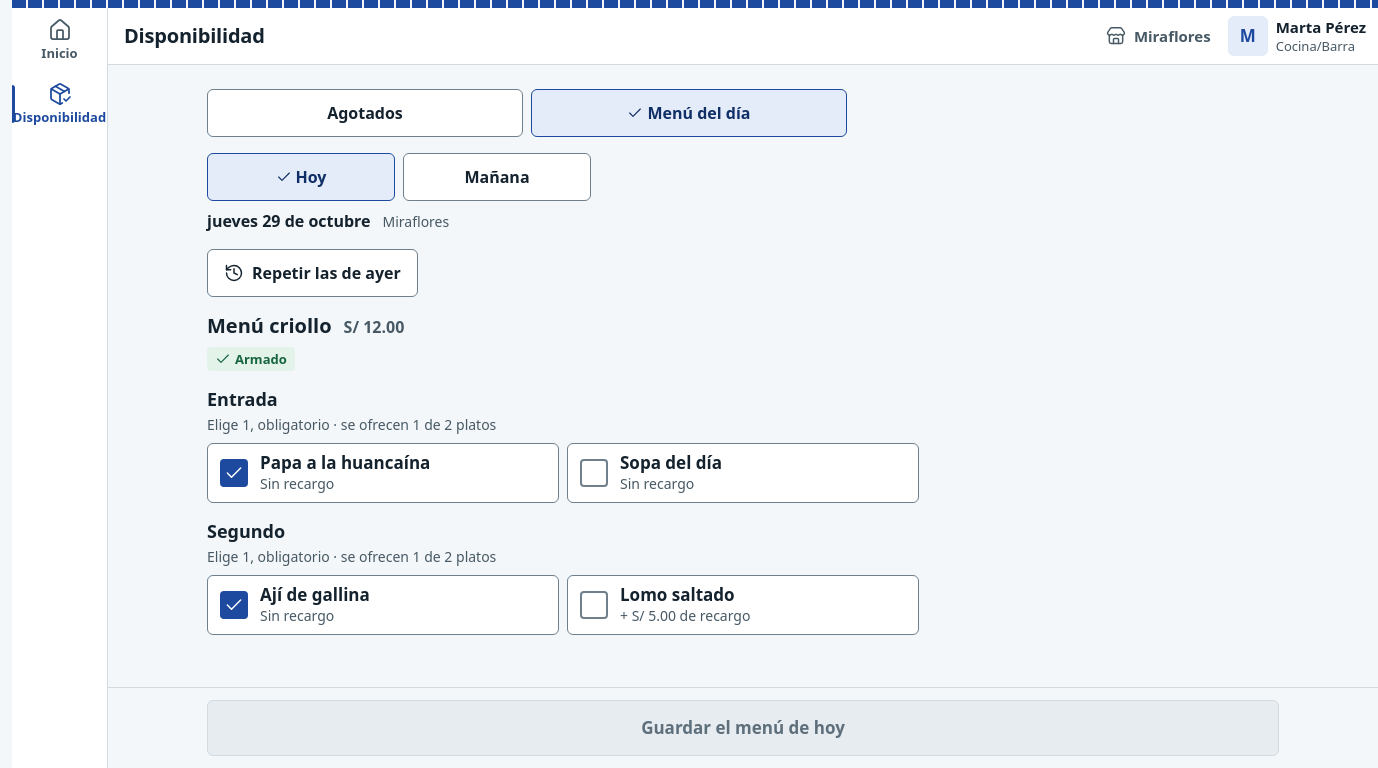
Test: menú del día: armar › desmarcar todo y guardar manda una lista vacía (el menú queda sin armar)
(page scrolled)
Click the checkbox labelled "Papa a la huancaína Sin recargo": (383, 473) [207, 443, 559, 503]
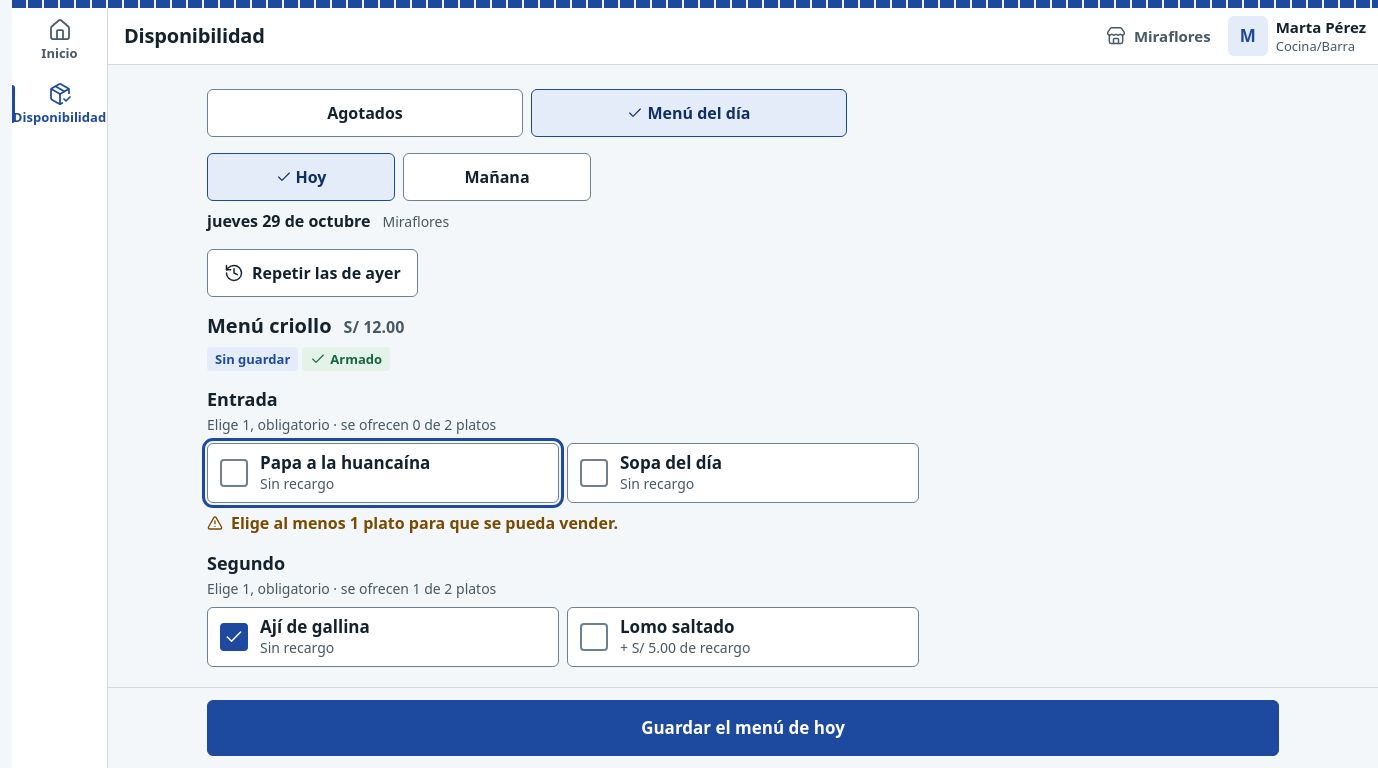
Click the checkbox labelled "Ají de gallina Sin recargo": (315, 626) [207, 607, 559, 667]
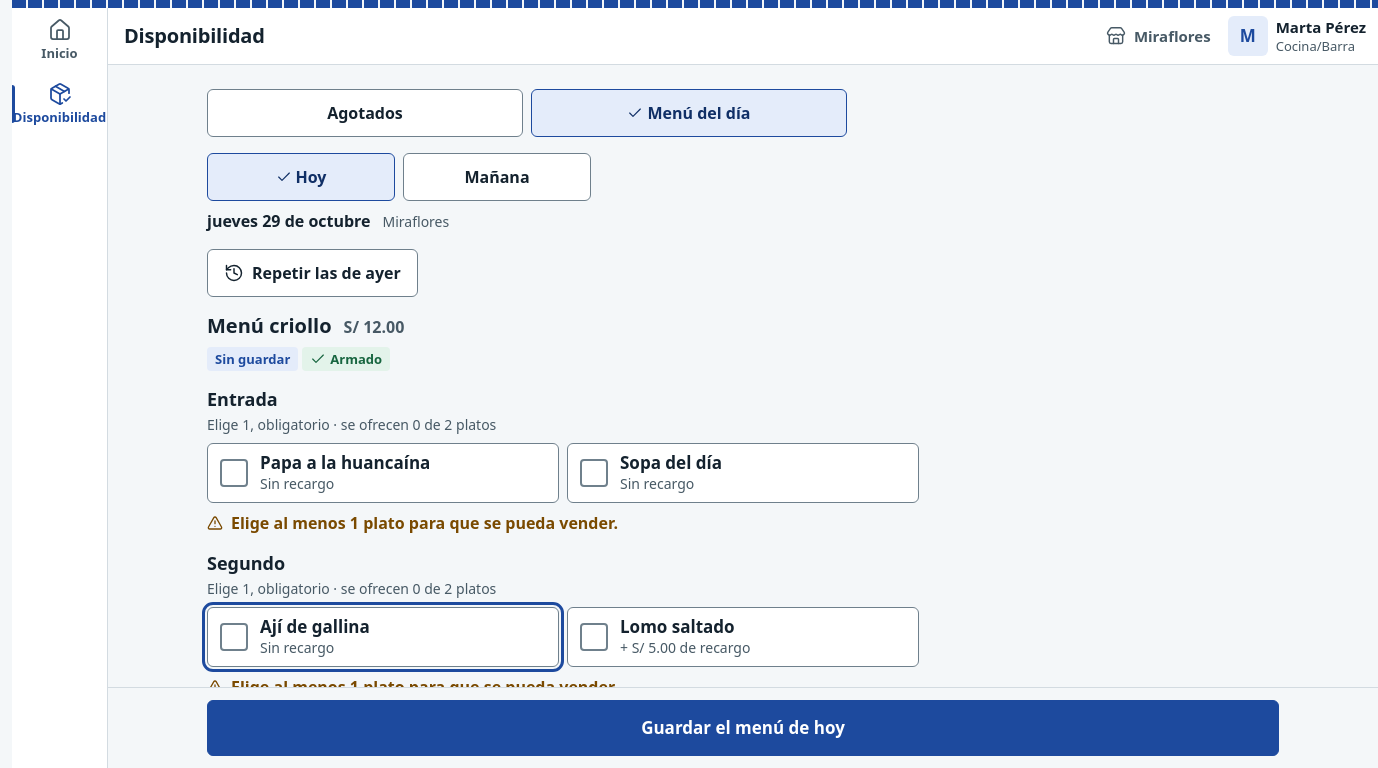
Click the button "Guardar el menú de hoy": (743, 728) [207, 700, 1279, 756]
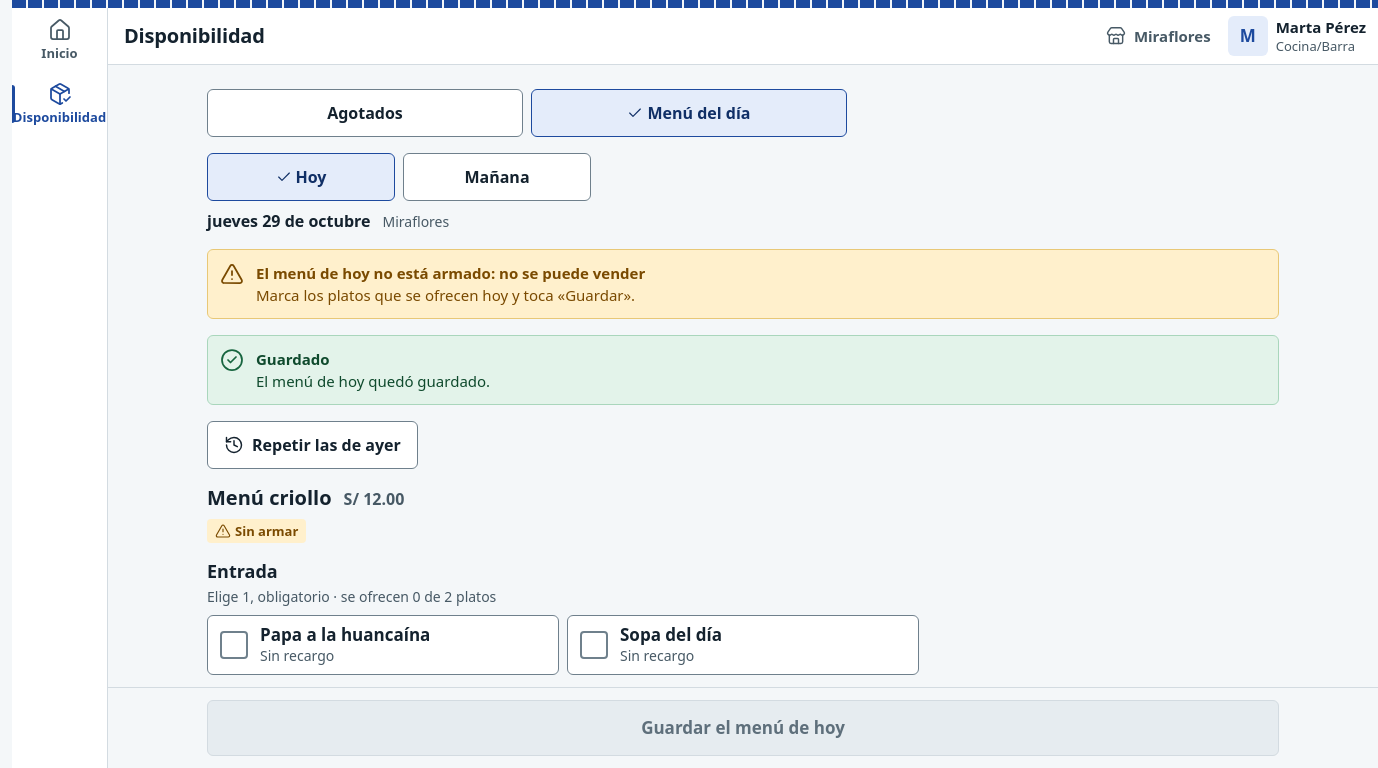
Expected: the text "El menú de hoy no está armado: no se puede vender" is shown, [256, 263, 645, 283]
